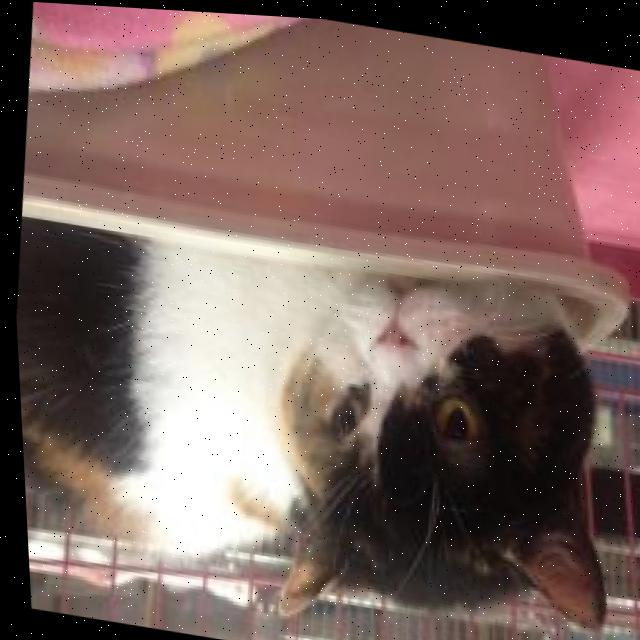British Shorthair: (8, 202, 637, 640)
